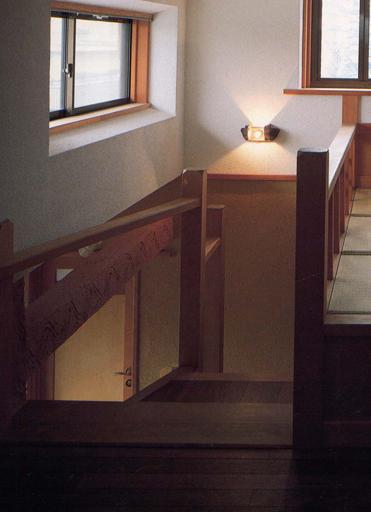Escaleras: (11, 224, 316, 454)
